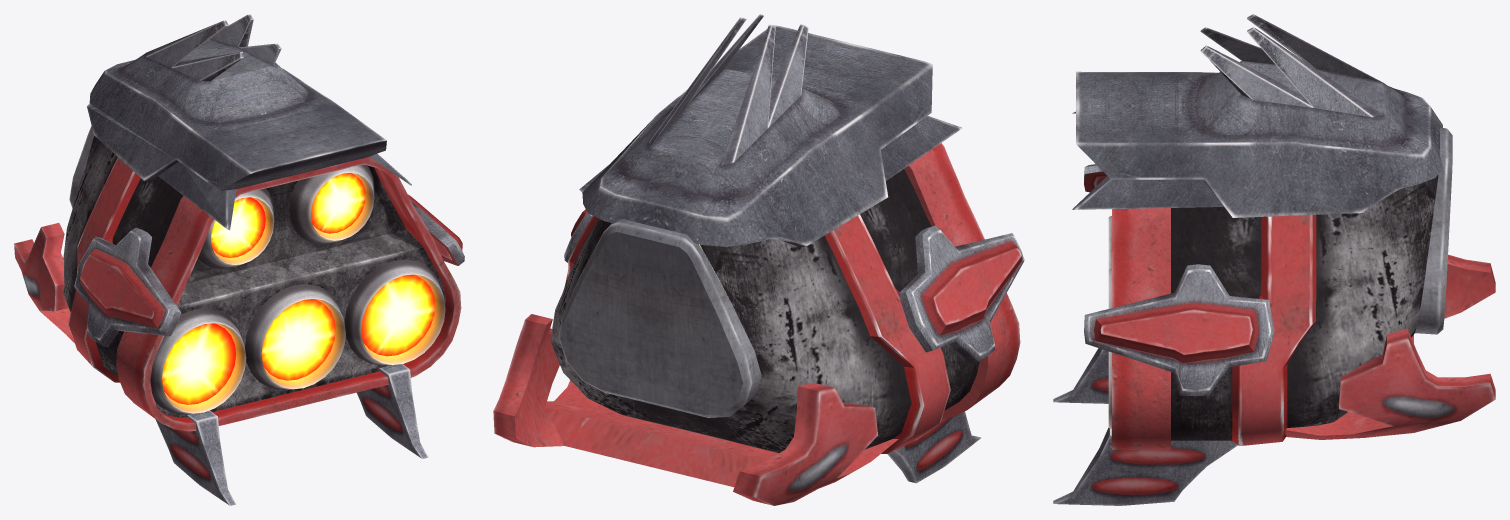
The model's file is engine_mesh.FBX.
3 views of the same model, side by side, from view 1: azimuth 30°, elevation 25°; view 2: azimuth 150°, elevation 25°; view 3: azimuth 270°, elevation 25° (orthographic). The views are drawn at different scales.
Parts seen in each view (by area): view 1: engine; view 2: engine; view 3: engine.
Part boxes in pixels (x1,y1,x2,y2): engine: [14, 14, 464, 505]; engine: [493, 14, 1024, 505]; engine: [1053, 14, 1495, 505].
Bounding box in the file's own units: 74.26 × 83.01 × 76.96.
Materials: 1 (1 with a texture image).
